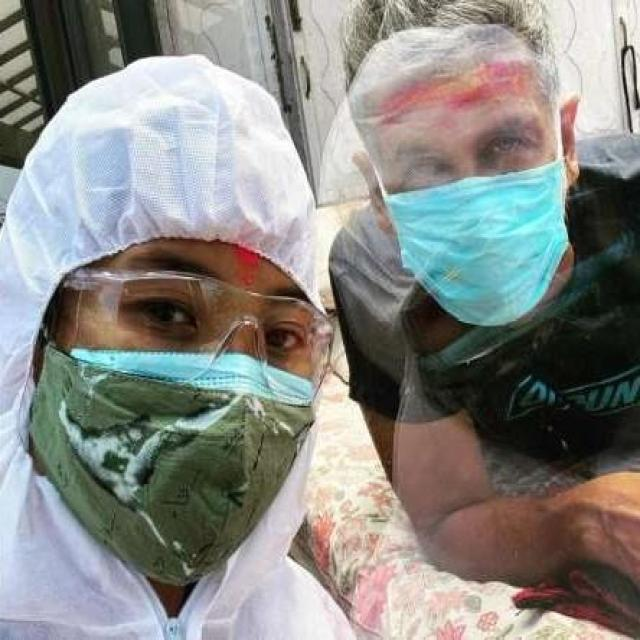Coverall: (0, 39, 337, 579)
Goggles: (30, 236, 346, 403)
Mask: (16, 335, 297, 604), (368, 183, 571, 303)
